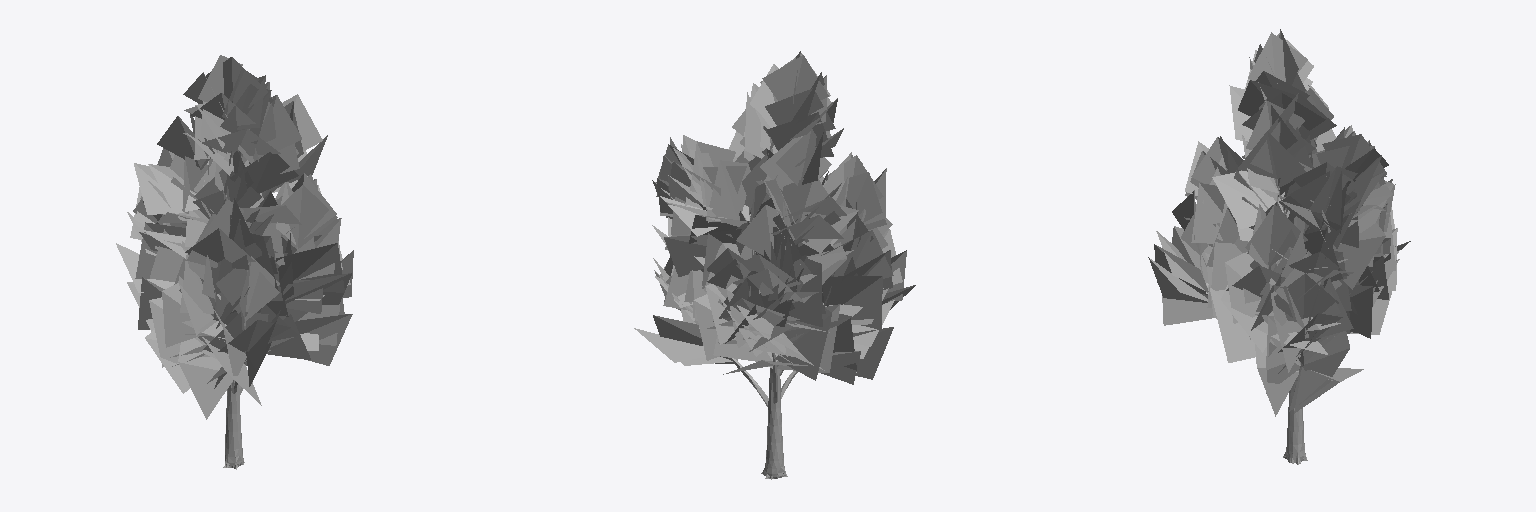
Rendered from tree.obj.
3 views of the same model, side by side, from view 1: azimuth 30°, elevation 25°; view 2: azimuth 150°, elevation 25°; view 3: azimuth 270°, elevation 25° (orthographic).
Parts seen in each view (by area): view 1: tree_leaves, tree_wood; view 2: tree_leaves, tree_wood; view 3: tree_leaves, tree_wood.
Boxes of the visible parts, box(x1,y1,x2,y2) form: tree_leaves: box(116, 55, 353, 419); tree_wood: box(200, 168, 297, 469); tree_leaves: box(634, 51, 915, 384); tree_wood: box(730, 137, 799, 479); tree_leaves: box(1148, 29, 1410, 416); tree_wood: box(1200, 179, 1324, 464).
Size of the model in its own units: 1.3 by 2.5 by 1.42.